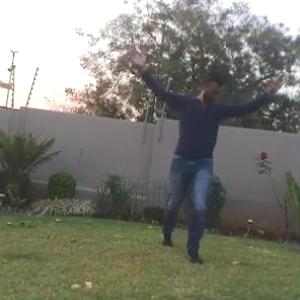takeoff: (130, 46, 293, 258)
